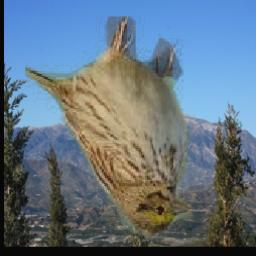Sparrow: (24, 16, 197, 241)
